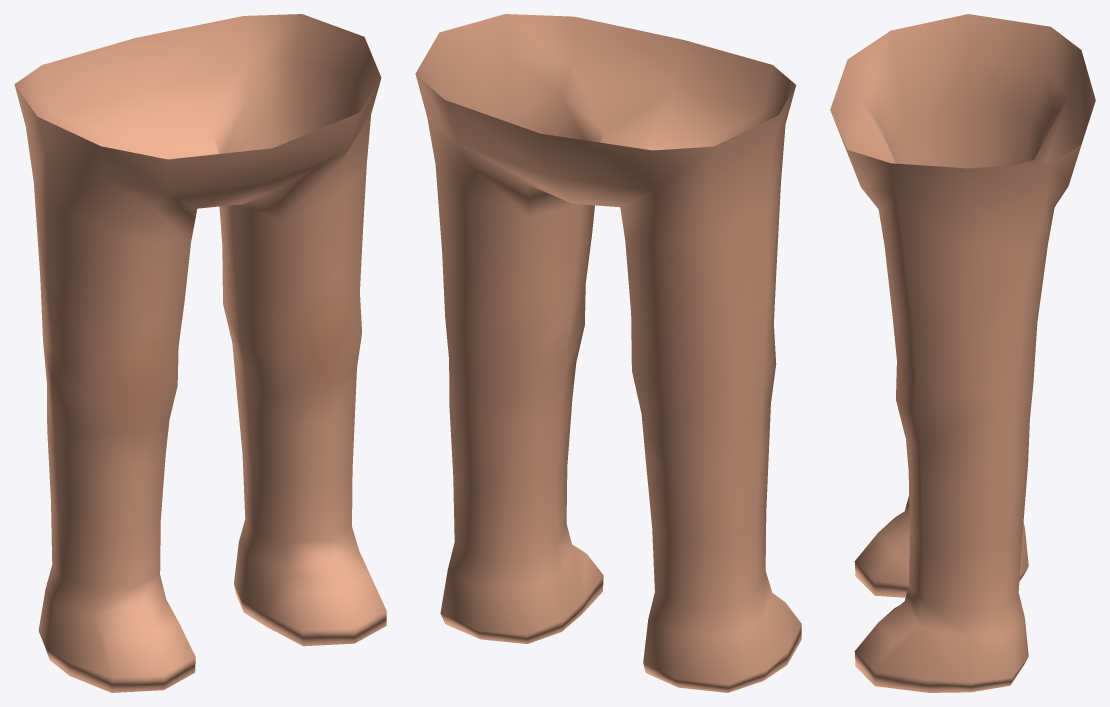
Rendered from Body_Yellow_Bottom_1.fbx.
The picture shows the model from 3 angles, left to right: view 1: azimuth 30°, elevation 25°; view 2: azimuth 150°, elevation 25°; view 3: azimuth 270°, elevation 25°; orthographic projection. The views are drawn at different scales.
Parts seen in each view (by area): view 1: Body_Yellow_Bottom_1; view 2: Body_Yellow_Bottom_1; view 3: Body_Yellow_Bottom_1.
Part boxes in pixels (left/top/right/bottom): Body_Yellow_Bottom_1: left=14, top=14, right=386, bottom=692; Body_Yellow_Bottom_1: left=415, top=14, right=801, bottom=692; Body_Yellow_Bottom_1: left=830, top=14, right=1095, bottom=692.
Size of the model in its own units: 34.87 by 55.8 by 25.35.
